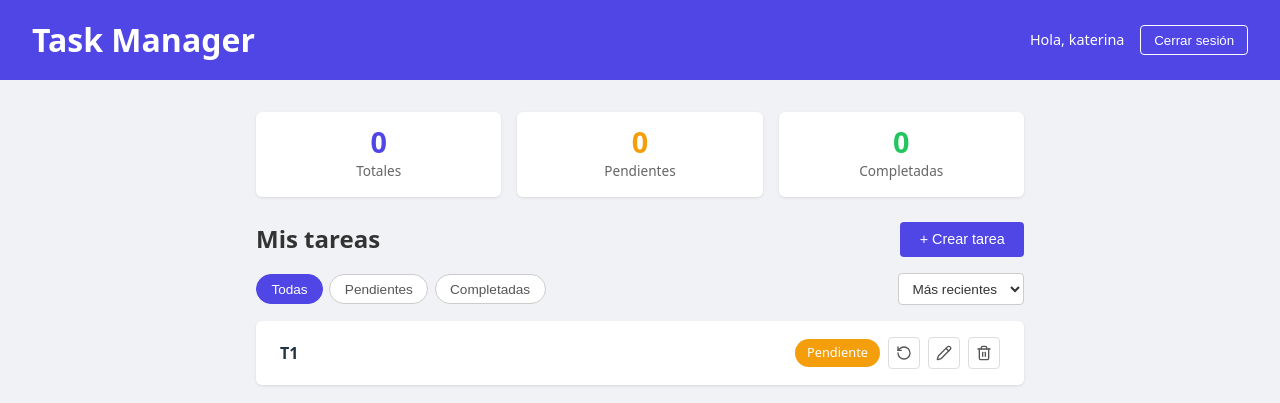
it: Dashboard › elimina una tarea tras confirmar
Expected: the text "T1" is shown, [280, 342, 298, 364]
Click the button titled "Eliminar": [984, 353] box [968, 337, 1000, 369]
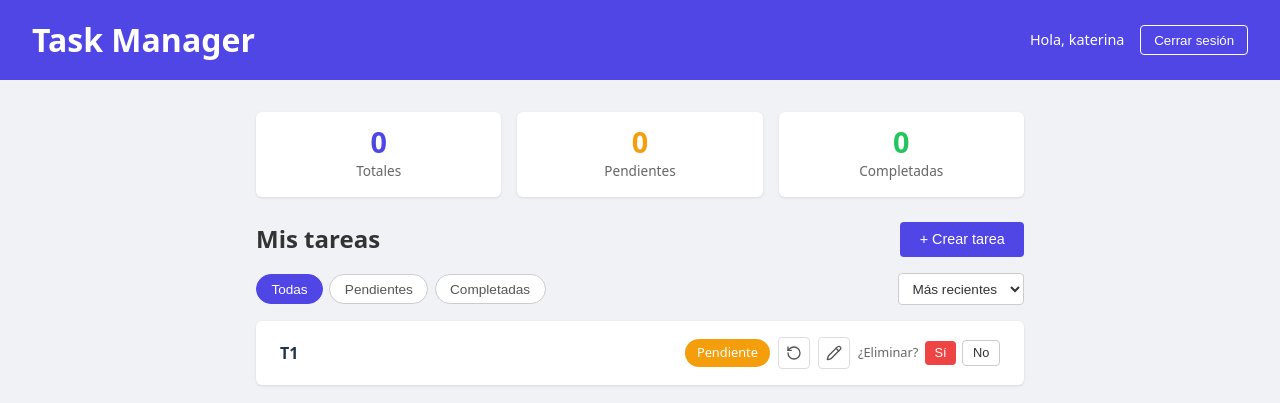
Click the button "Sí": [940, 353] box [925, 341, 956, 365]
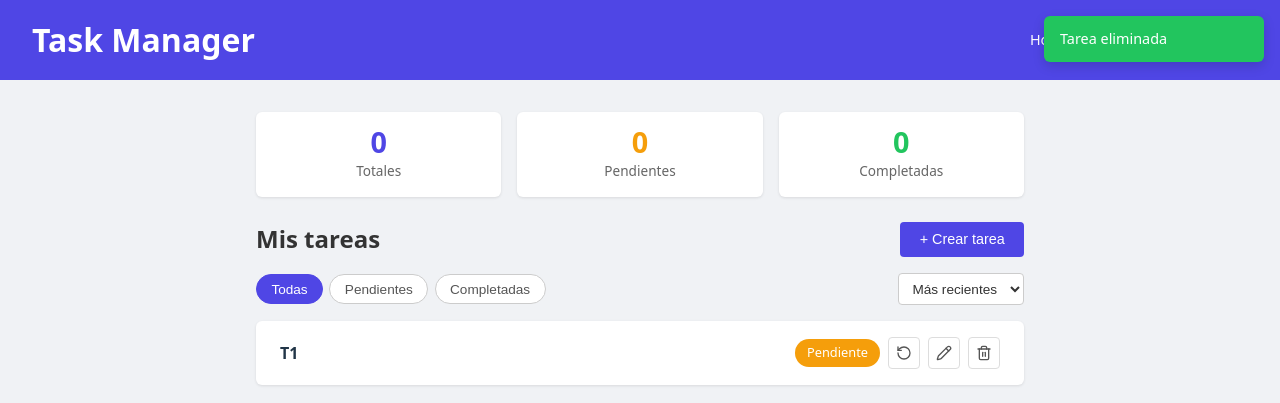
Now the text "Tarea eliminada" is shown, box [1044, 16, 1264, 62]
